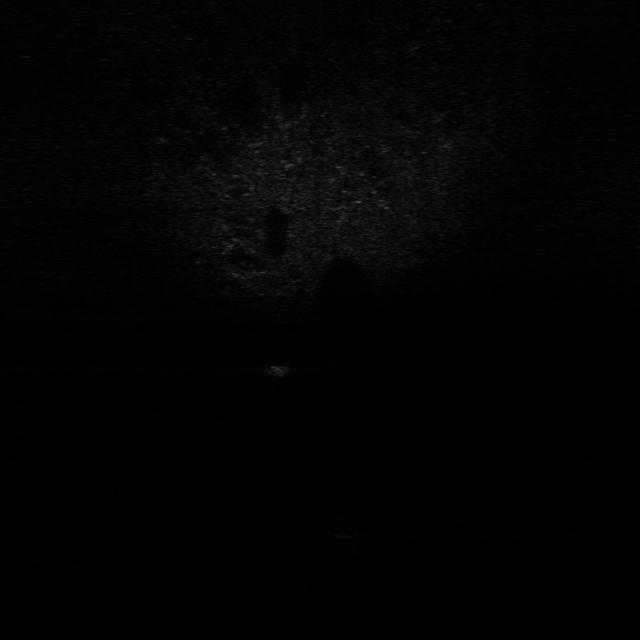ball: (314, 515, 366, 541)
cube: (263, 354, 301, 378)
